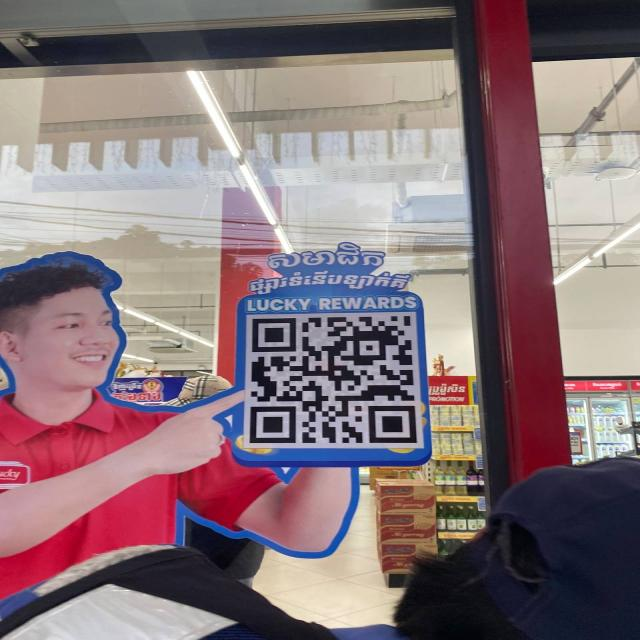Yolov11kh: (246, 267, 424, 296), (260, 242, 389, 270)
